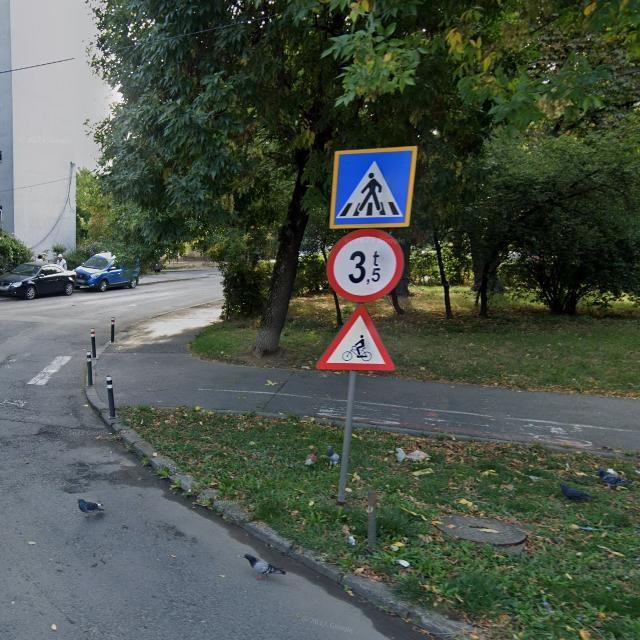warn_crosswalk: (331, 149, 418, 227)
